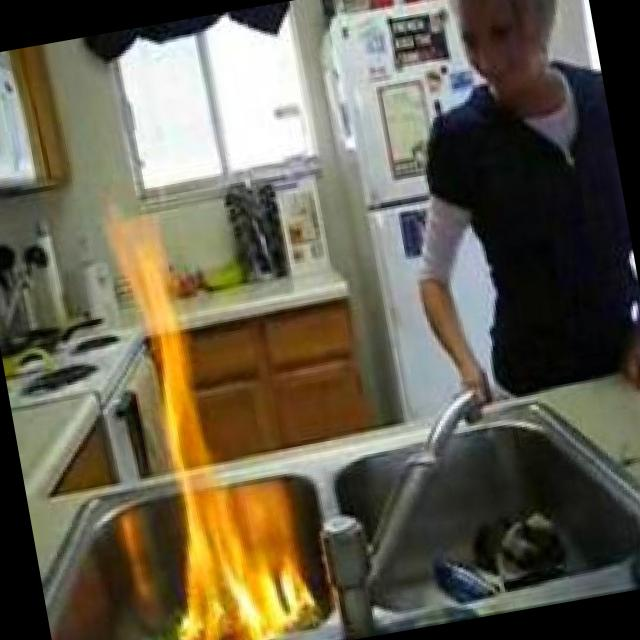Fire: (94, 174, 316, 640)
